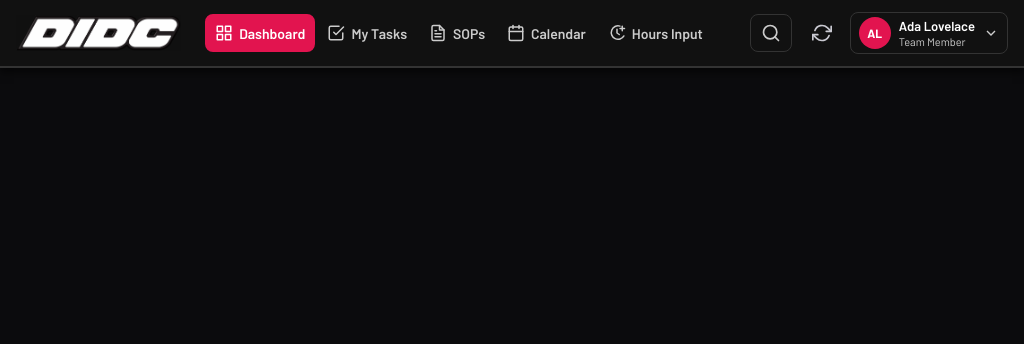
Test: desktop header › puts Profile, Settings and Logout on real buttons that Escape can leave
The width and height of the screenshot is (1024, 344).
Click the button "AL Ada Lovelace Team Member": [929, 33] box [850,12,1008,54]
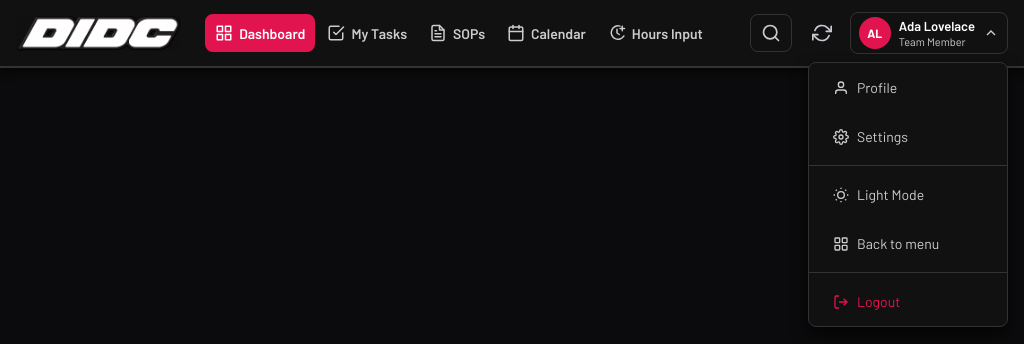
Now the button "Profile" is shown, box [809,63,1007,112]
Now the button "Settings" is shown, box [809,112,1007,161]
Now the button "Logout" is shown, box [809,277,1007,326]
Press Escape
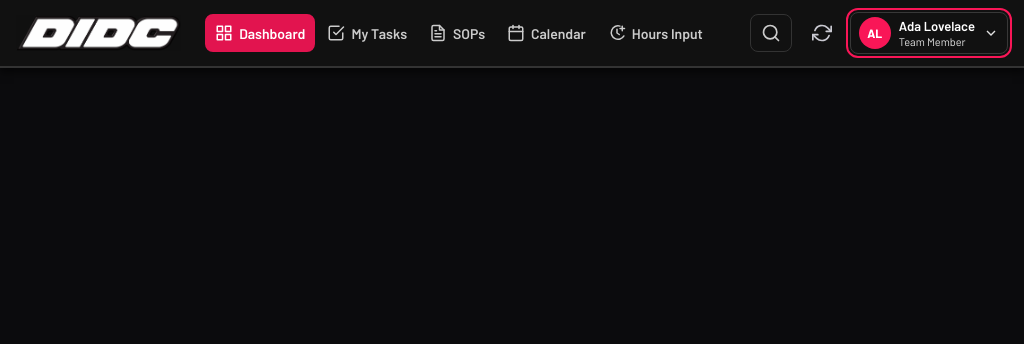
Now the button "Logout" is gone
